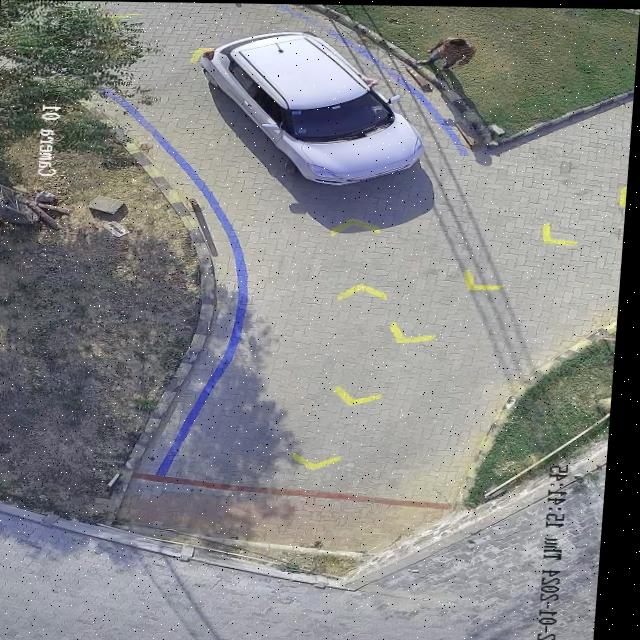car: (201, 31, 422, 184)
